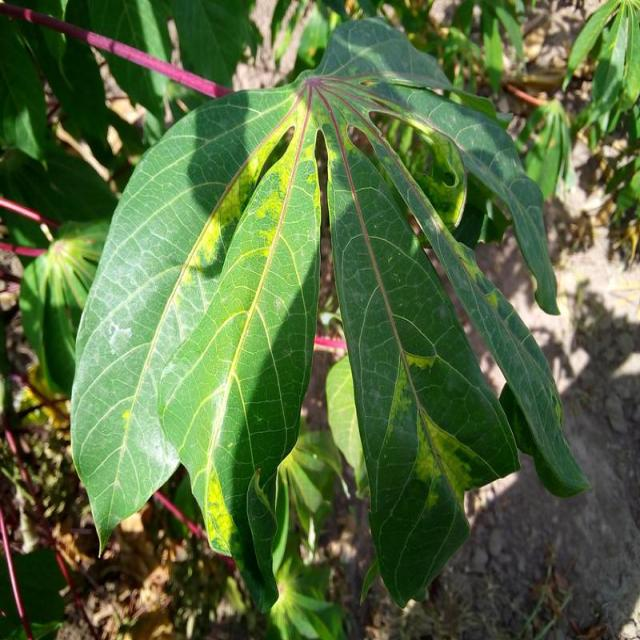cassava leaf: (68, 17, 586, 616)
